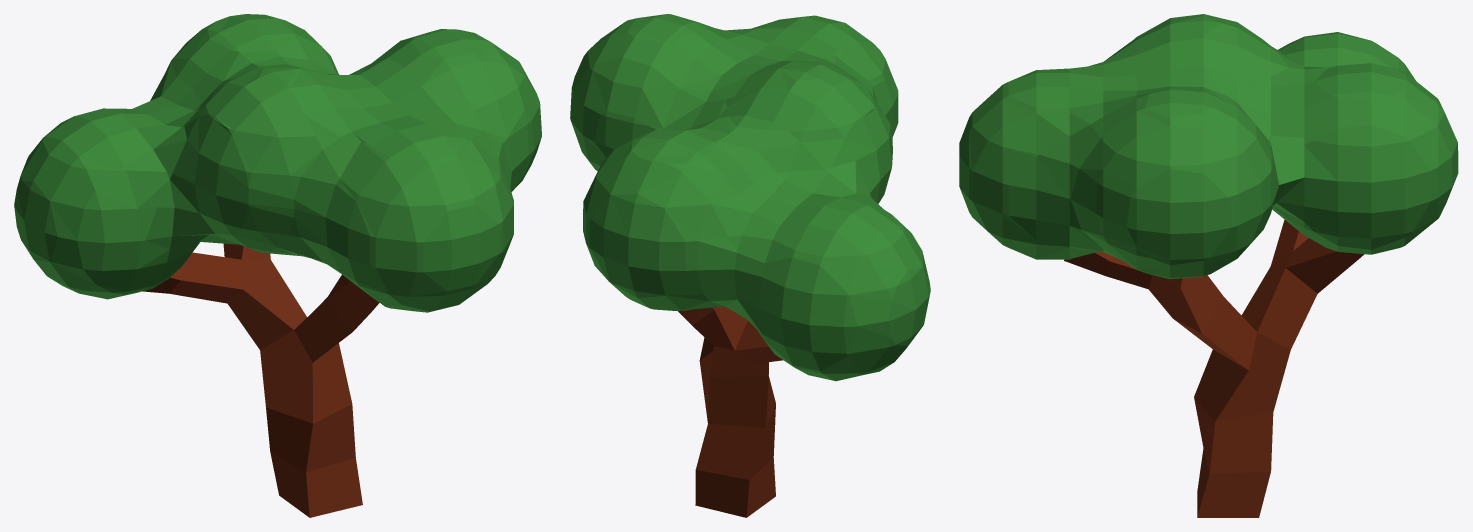
File: Tree.glb
The picture shows the model from 3 angles, left to right: view 1: azimuth 30°, elevation 25°; view 2: azimuth 150°, elevation 25°; view 3: azimuth 270°, elevation 25°; orthographic projection. The views are drawn at different scales.
Visible parts, largest first — view 1: Mball.005, Cube; view 2: Mball.005, Cube; view 3: Mball.005, Cube.
Part boxes in pixels (bbox=[...]): Mball.005: bbox=[14, 14, 541, 312]; Cube: bbox=[143, 243, 379, 517]; Mball.005: bbox=[570, 14, 930, 381]; Cube: bbox=[678, 306, 782, 517]; Mball.005: bbox=[959, 14, 1458, 279]; Cube: bbox=[1064, 219, 1363, 517].
Bounding box in the file's own units: 7.67 × 7.82 × 7.73.
